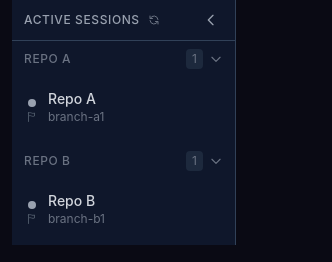
Test: ActiveSessionsSidebar › Repository grouping (Issue #1292) › collapsing a group header hides its sessions but keeps the count badge visible
expect the text "branch-a1" is shown: met, box [48,109,104,124]
Click the button "Repo A 1".
click(124, 59)  # box [12,41,235,77]
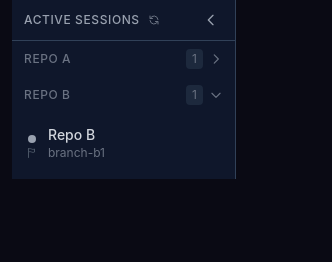
expect the text "branch-b1" is shown: met, box [48,145,105,160]
expect the button "branch-a1" is gone: met
